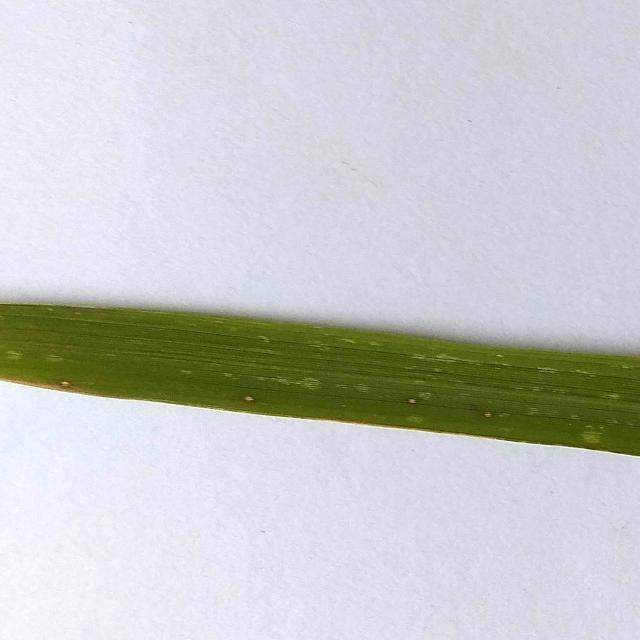Blast: (229, 388, 262, 406), (478, 402, 498, 424), (403, 390, 421, 410)
